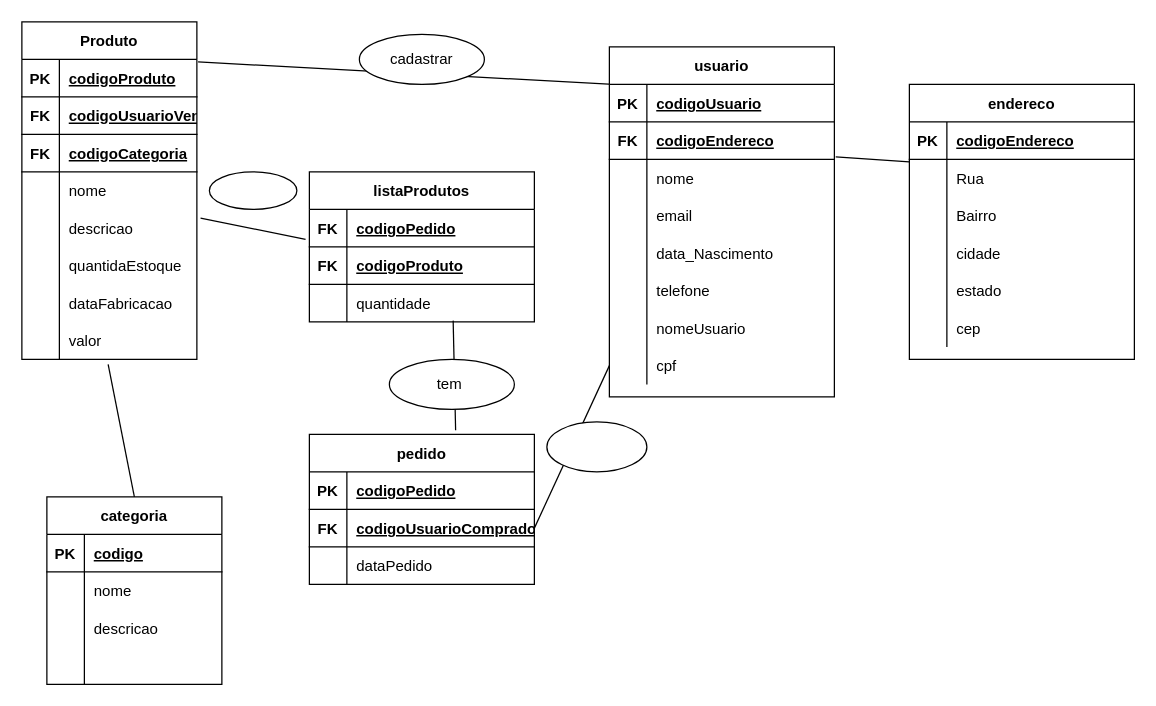
The diagram is 1156 pixels wide and 706 high, and some of its shapes have lost their labels. Here are the shapes that lost their labels. From the top down, the centre of each, then its label:
pixel 252 190: contem
pixel 596 446: faz
